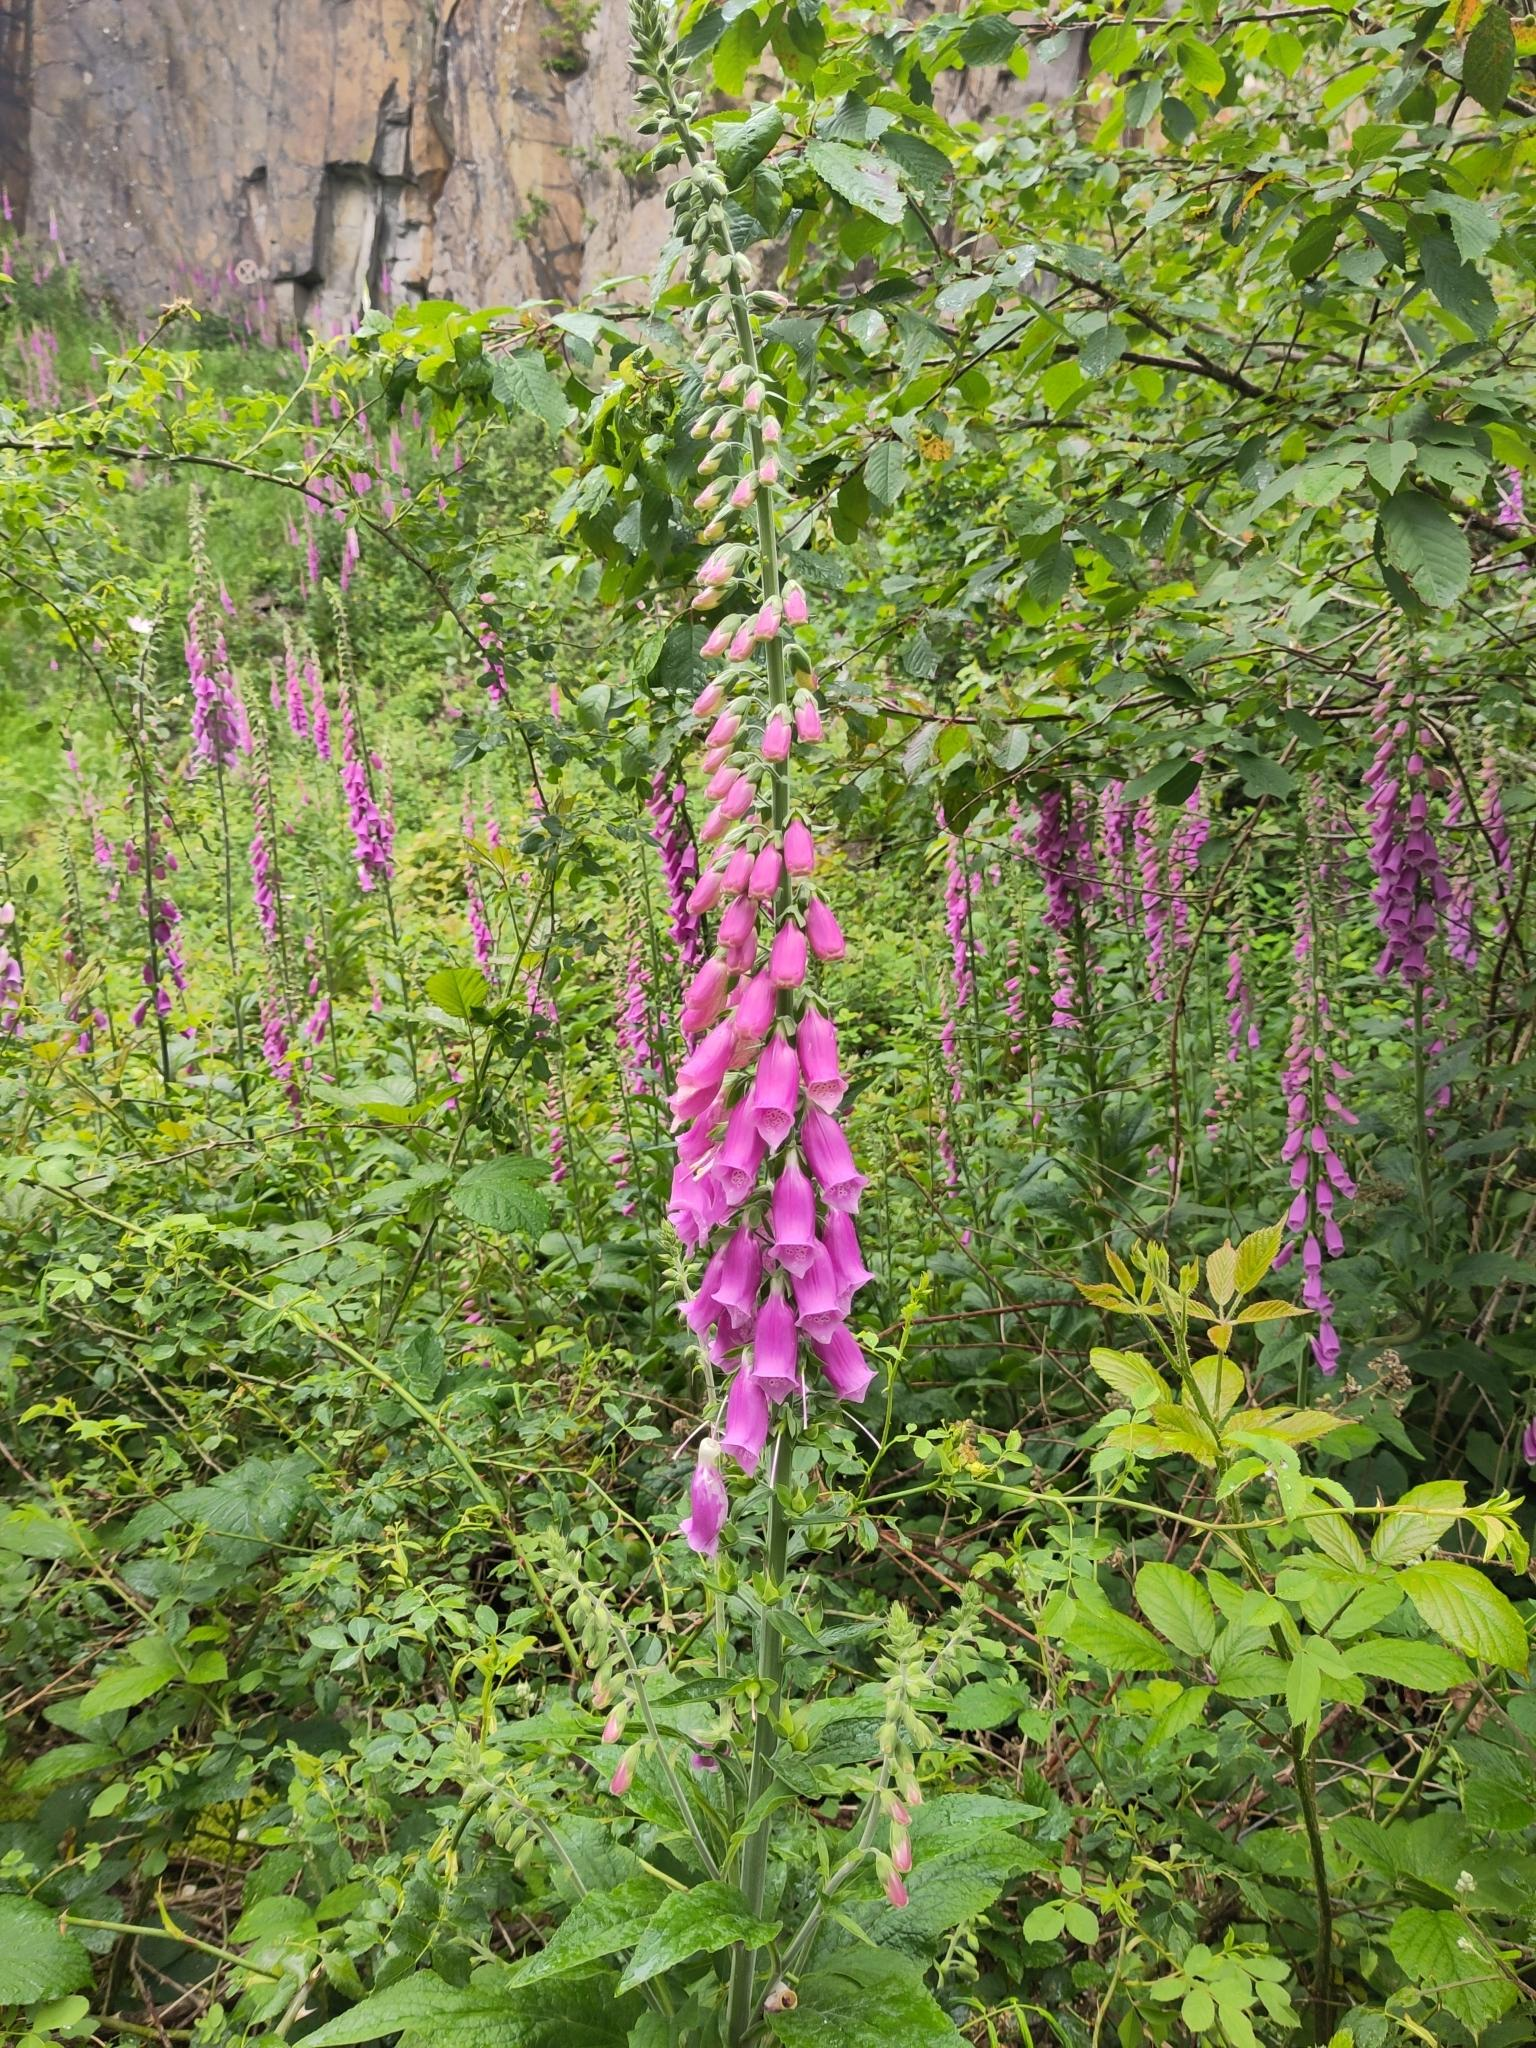Digitalis L: (595, 8, 886, 2048), (1347, 563, 1518, 1355), (166, 476, 319, 1308), (1021, 785, 1236, 1316), (328, 672, 468, 1347), (913, 790, 1020, 1432), (1260, 893, 1370, 1430), (2, 763, 142, 1151)
